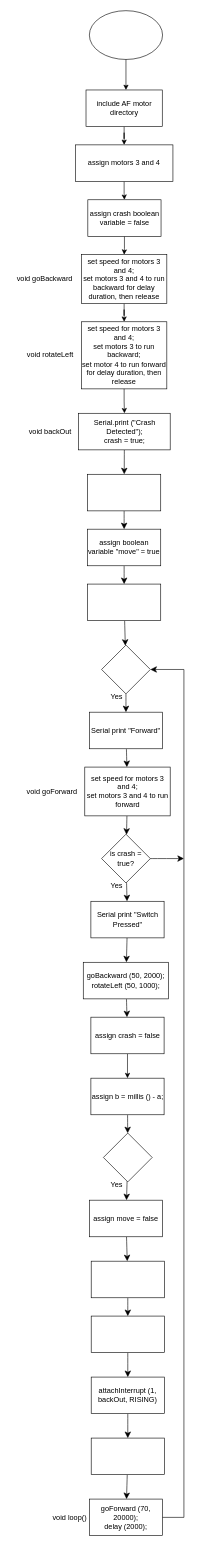
Image size: 201x1546. Some labels were removed from this diagram. Each missing label, with the centre of its shape:
assign a = millis();: point 124,602
create long integers a, b: point 124,492
delay (5000); Serial.begin (9600);: point 127,1456
is b >= duration?: point 127,1157
is crash = false?: point 125,669
motors 3 and 4 run release: point 127,1334
Start: point 126,34
while (move != false);: point 127,1279
